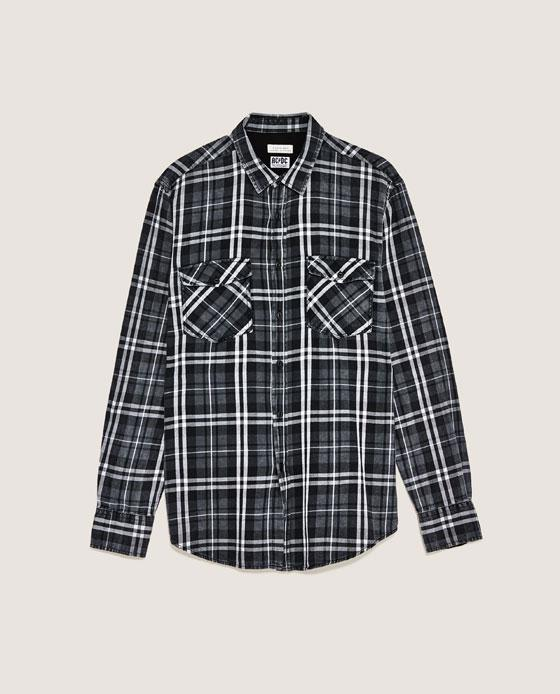teeshirt: (64, 107, 512, 590)
